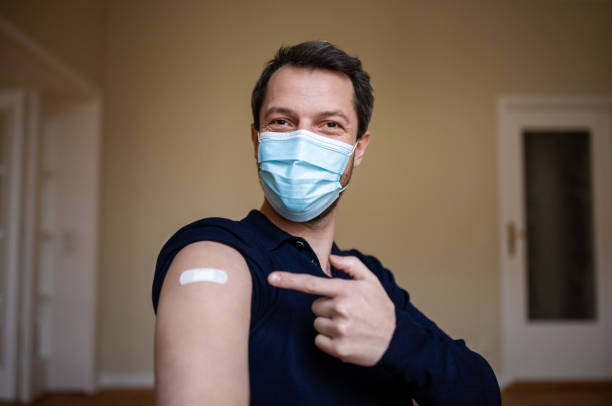without mask: (251, 49, 356, 238)
